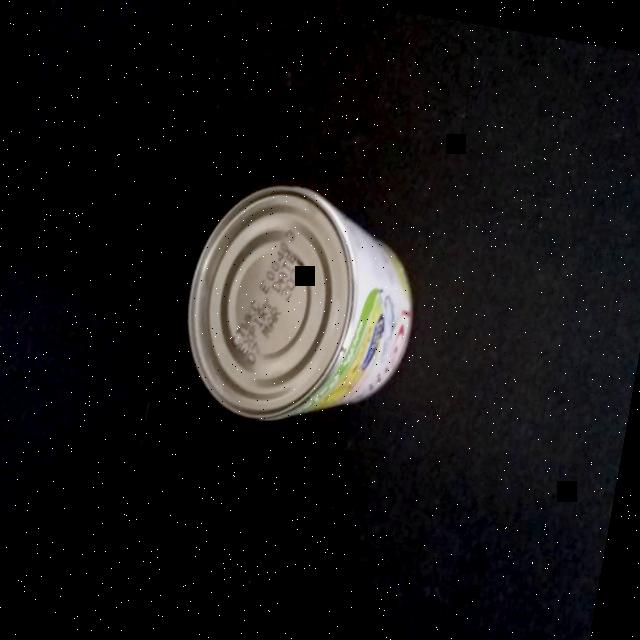can: (164, 163, 438, 446)
